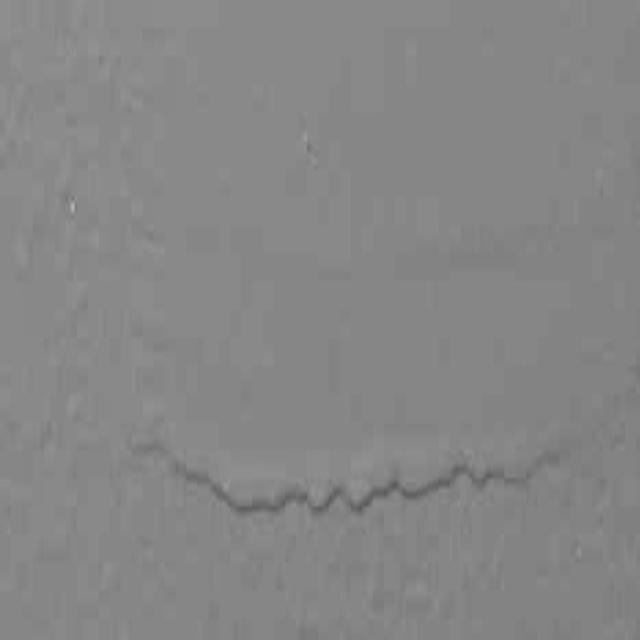paint drips: (121, 395, 607, 530)
